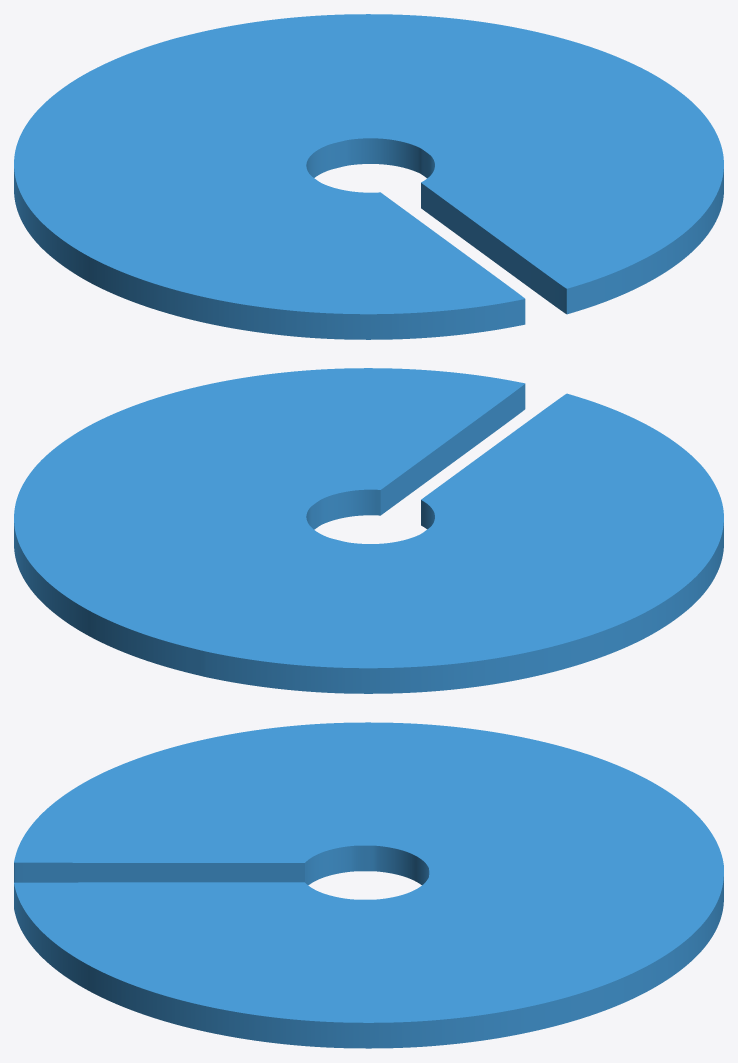
The model's file is sbi.glb.
The picture shows the model from 3 angles, top to bottom: view 1: azimuth 30°, elevation 25°; view 2: azimuth 150°, elevation 25°; view 3: azimuth 270°, elevation 25°; orthographic projection.
Size of the model in its own units: 3.92 by 0.156 by 3.91.
